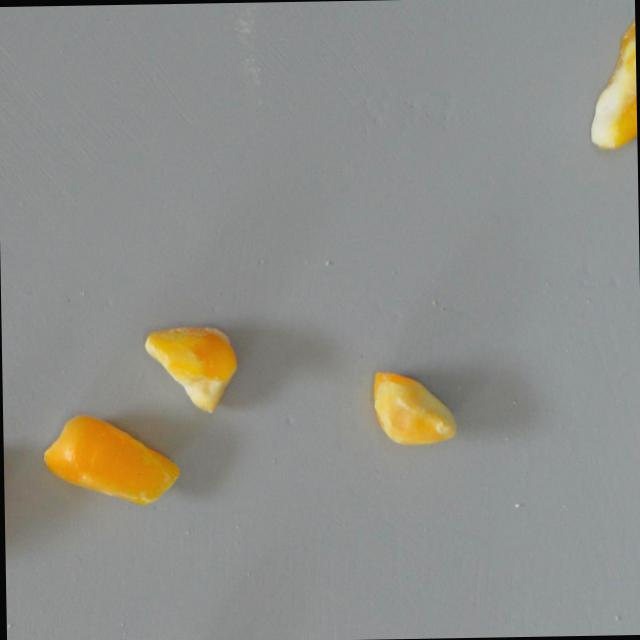pelicula: (39, 406, 183, 510), (142, 324, 240, 414), (371, 365, 458, 449), (586, 14, 637, 152)
